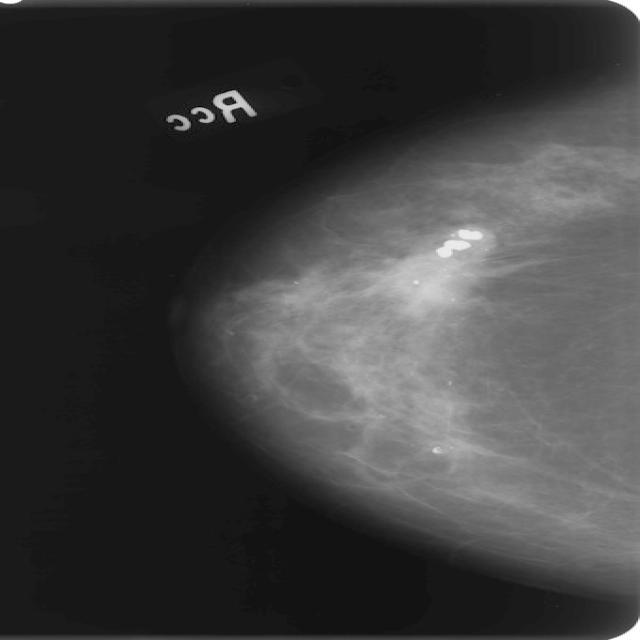tumour: (366, 253, 485, 307)
